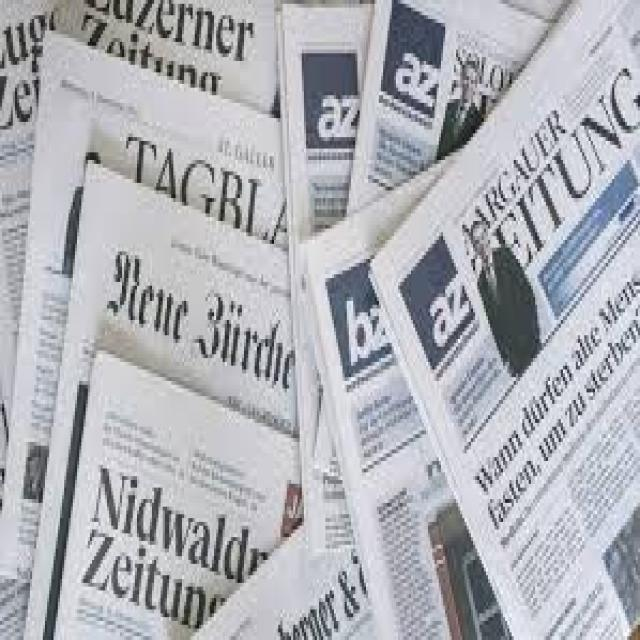Newspaper: (0, 7, 640, 640)
